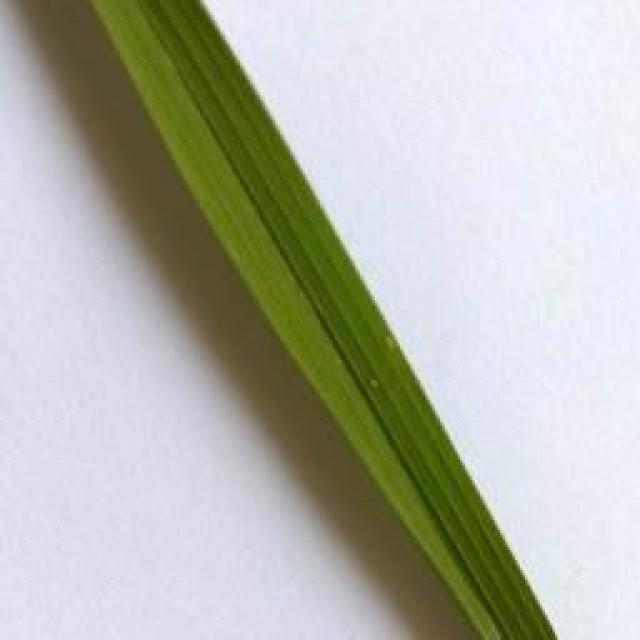Healthy-Plant: (76, 0, 564, 640)
